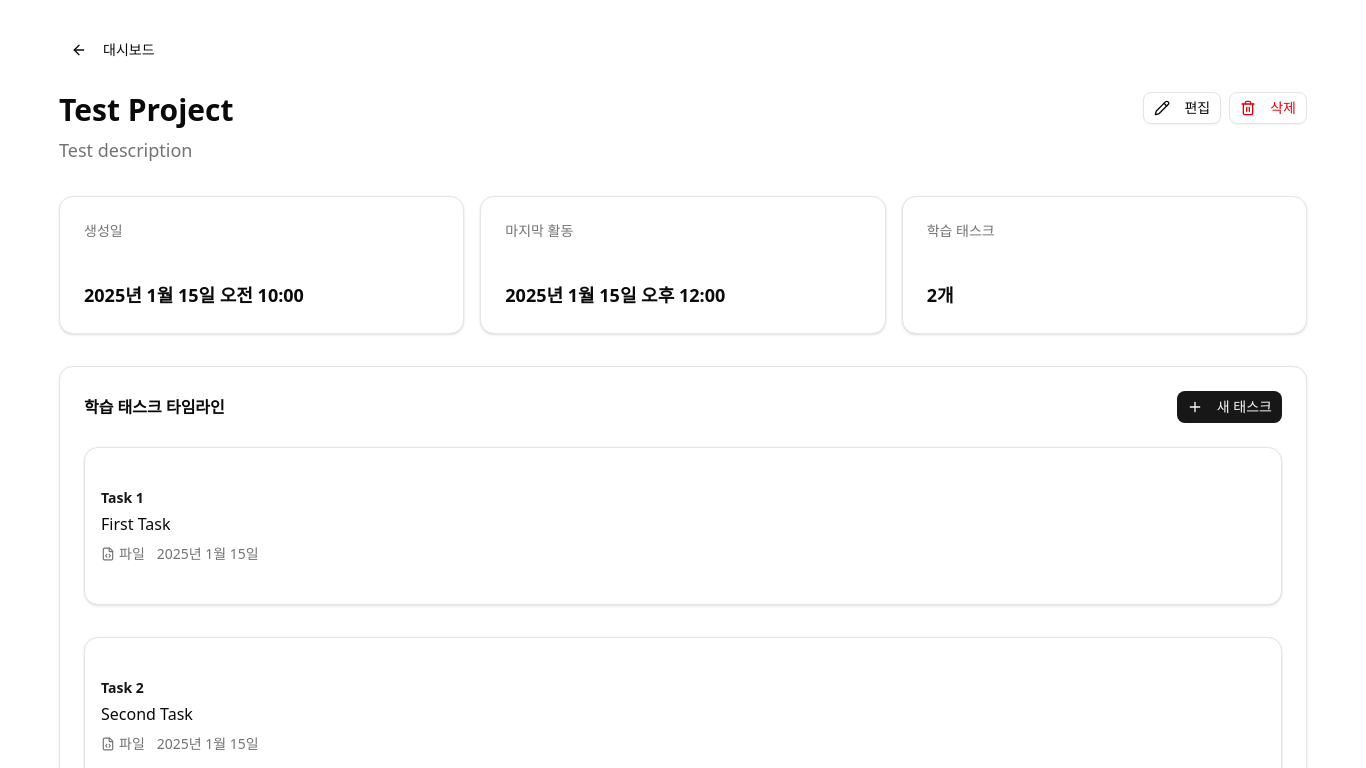
Test: ProjectDetail with Tasks › task creation › opens create task modal when button clicked
Click the button "새 태스크" at point(1229, 407), box [1177,391,1282,423]
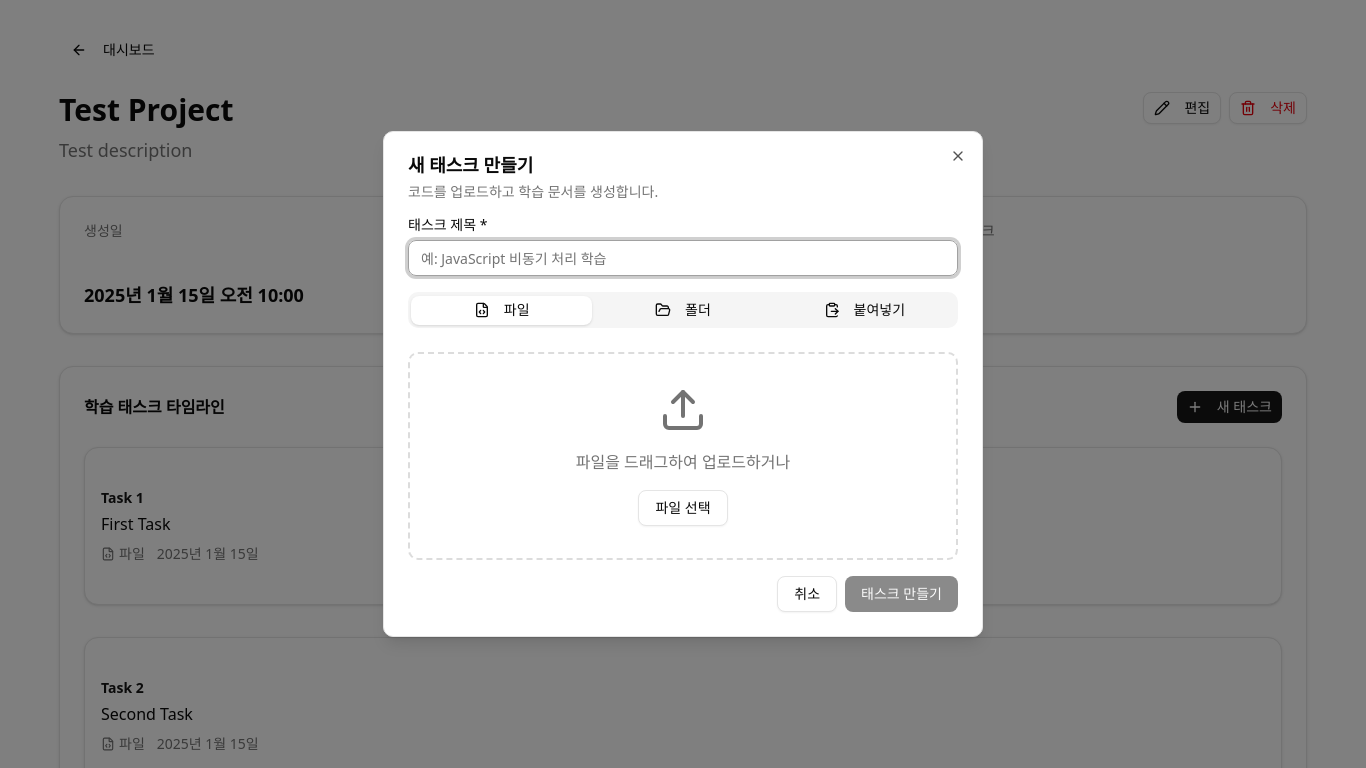
Now the heading "새 태스크 만들기" is shown, box [408,153,533,177]
